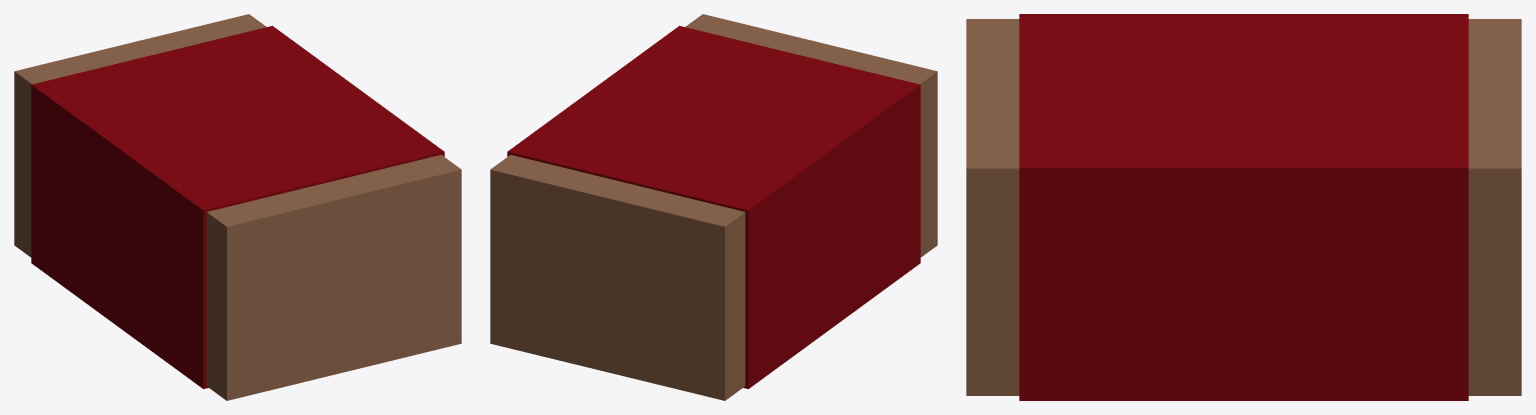
File: TaffyBox_TFSGJ_Spring2025.fbx
3 renders of one model, left to right at view 1: azimuth 30°, elevation 25°; view 2: azimuth 150°, elevation 25°; view 3: azimuth 270°, elevation 25°, orthographic. The views are drawn at different scales.
Visible parts, largest first — view 1: Cube.001; view 2: Cube.001; view 3: Cube.001.
Boxes of the visible parts, x1,y1,x2,y2 form: Cube.001: (14,14,461,400); Cube.001: (490,14,937,400); Cube.001: (966,14,1521,400).
Size of the model in its own units: 18.27 by 12.94 by 27.91.
